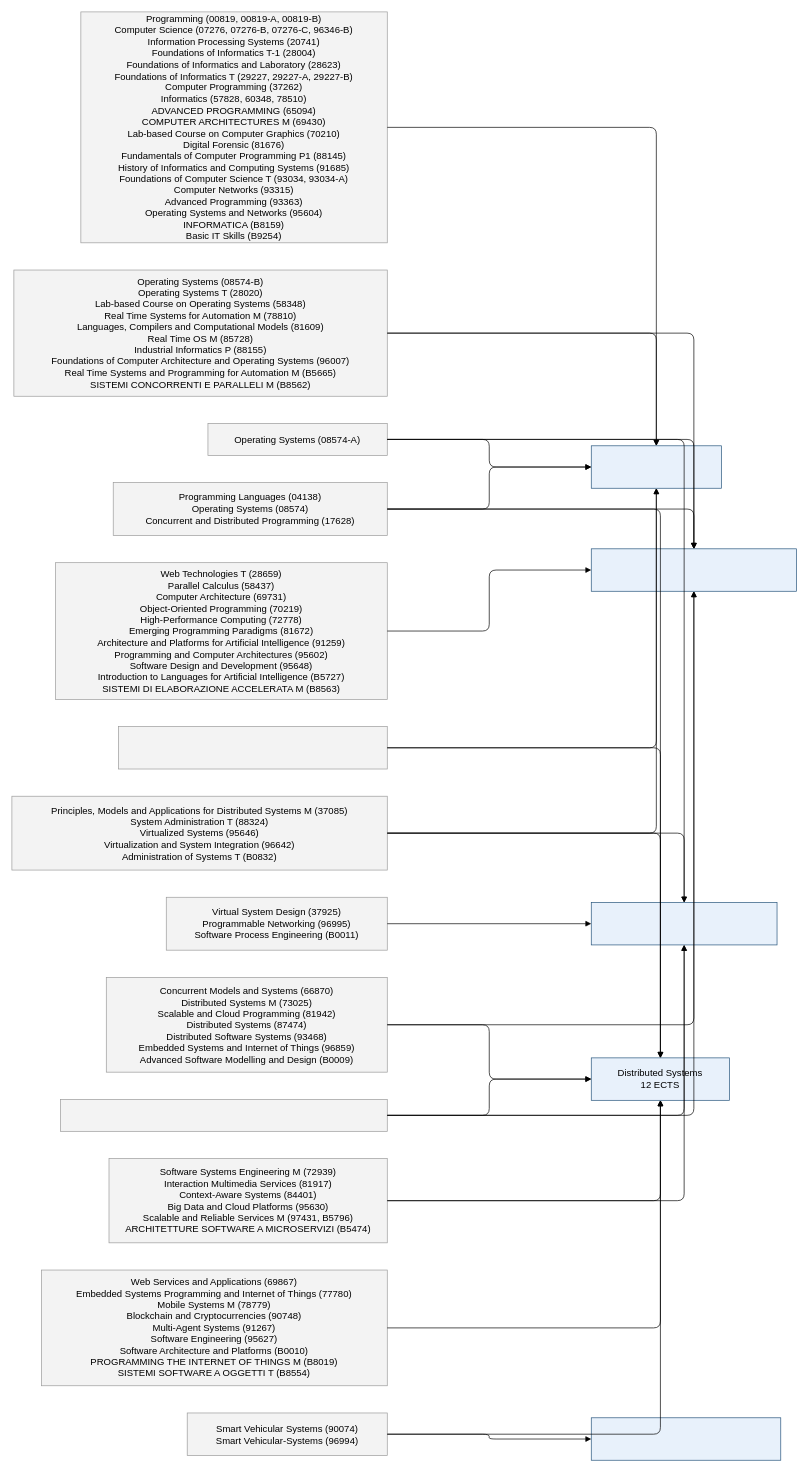
The diagram is 809 pixels wide and 1472 high, and some of its shapes have lost their labels. The box of each missing label's shape, as (x1, y1, x2, y2) in pixels:
Autonomous Vehicular Systems 3 ECTS: (591, 1417, 781, 1460)
Cloud and Virtualized Systems 12 ECTS: (591, 902, 777, 945)
Computer Networks T (28024) Cyber-Physical Systems Programming M (99195): (118, 726, 387, 769)
Concurrent and Parallel Computing 12 ECTS: (591, 548, 796, 591)
Infrastructures For Cloud Computing and Big Data M (84531): (60, 1099, 387, 1131)
Operating Systems 12 ECTS: (591, 445, 721, 488)
